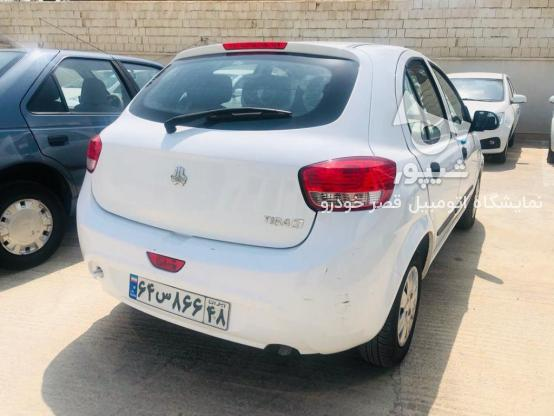car: (129, 273, 233, 330)
